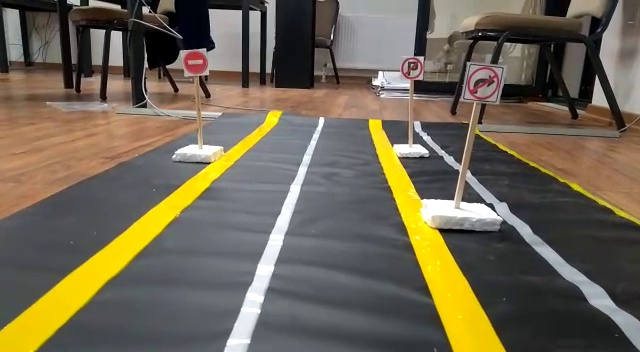girisi_olmayan_yol: (181, 49, 209, 75)
park_yapilmaz: (403, 57, 423, 82)
saga_donulmez: (464, 63, 500, 103)
